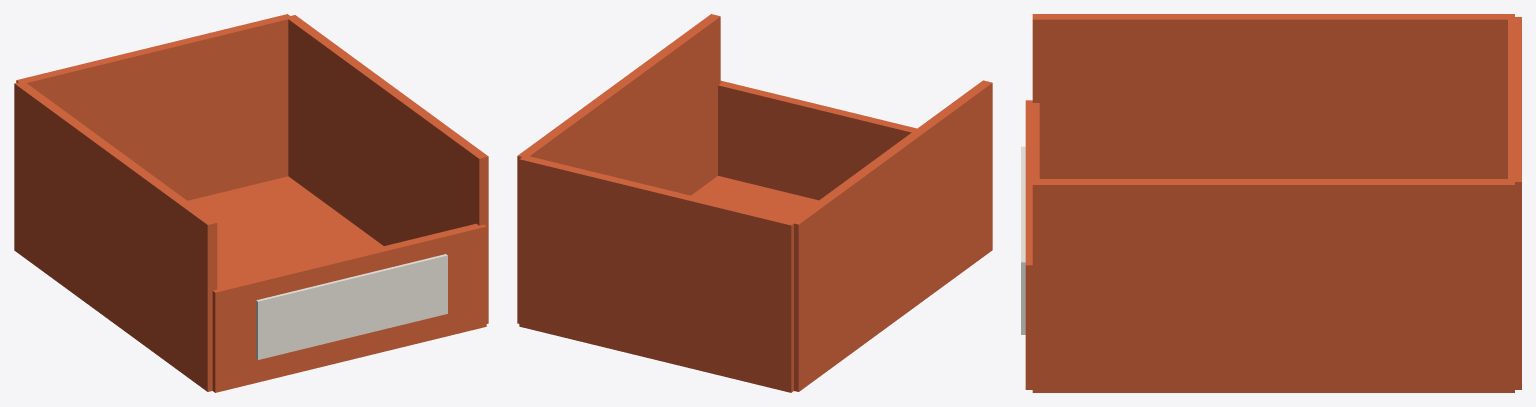
File: parts-box.glb
3 renders of one model, left to right at view 1: azimuth 30°, elevation 25°; view 2: azimuth 150°, elevation 25°; view 3: azimuth 270°, elevation 25°, orthographic. The views are drawn at different scales.
Visible parts, largest first — view 1: binSideL, binBack, binSideR, binFront, label, binBase; view 2: binBack, binSideL, binSideR, binFront, binBase; view 3: binSideR, binSideL, binBack, binFront, label.
Boxes of the visible parts, left/top/right/bottom form: binSideL: left=14, top=81, right=217, bottom=391; binBack: left=16, top=14, right=291, bottom=200; binSideR: left=286, top=15, right=488, bottom=323; binFront: left=212, top=223, right=486, bottom=392; label: left=256, top=254, right=447, bottom=359; binBase: left=188, top=176, right=383, bottom=286; binBack: left=519, top=156, right=793, bottom=392; binSideL: left=789, top=80, right=992, bottom=391; binSideR: left=517, top=14, right=720, bottom=323; binFront: left=718, top=80, right=916, bottom=200; binBase: left=691, top=176, right=818, bottom=220; binSideR: left=1032, top=179, right=1514, bottom=392; binSideL: left=1032, top=14, right=1514, bottom=178; binBack: left=1508, top=17, right=1521, bottom=389; binFront: left=1025, top=100, right=1039, bottom=389; label: left=1021, top=146, right=1025, bottom=334.
Size of the model in its own units: 0.352 by 0.2 by 0.436.
